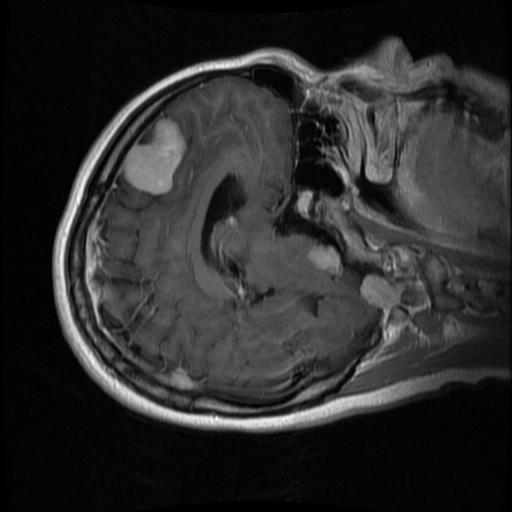meningioma: (121, 116, 188, 196)
